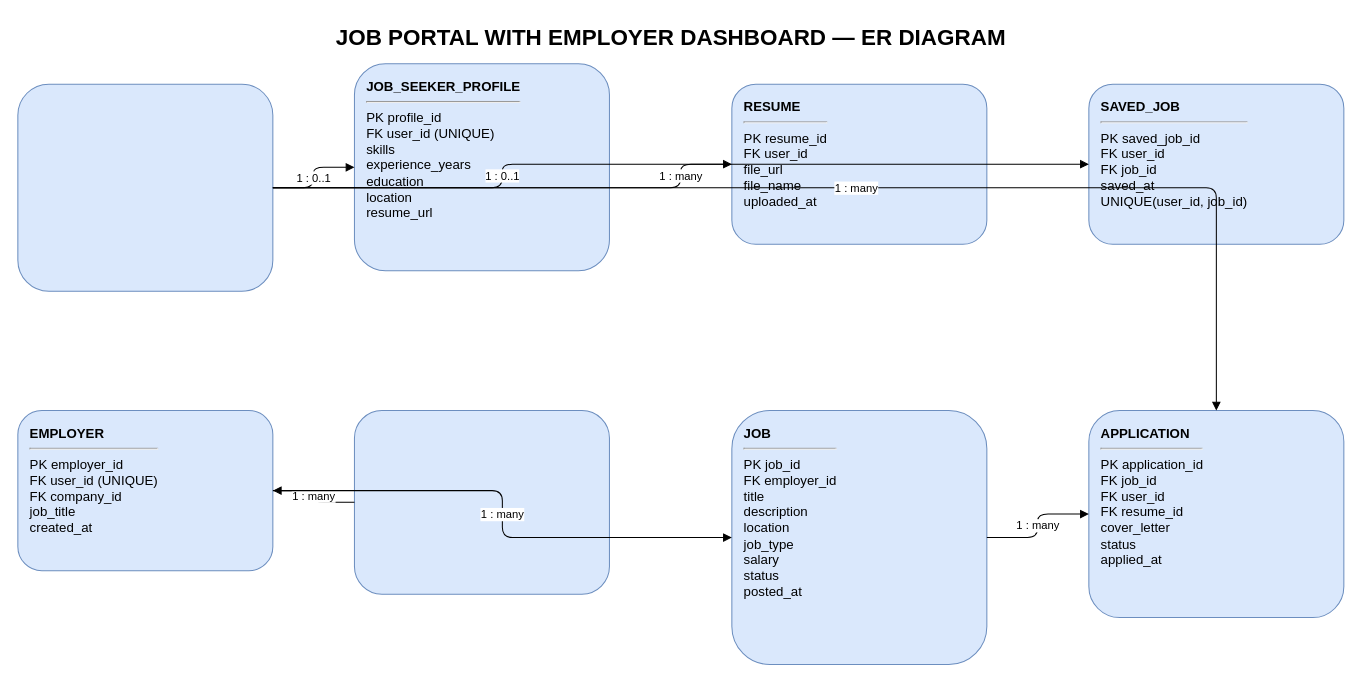
Image size: 1362x682. Some labels were removed from this diagram. Here are the shapes that lost their labels. From the top down, the centre of each, then its label:
At (x=145, y=187): "USER PK user_id full_name email (UNIQUE) password_hash phone role created_at".
At (x=481, y=502): "COMPANY PK company_id company_name description website location logo_url".
